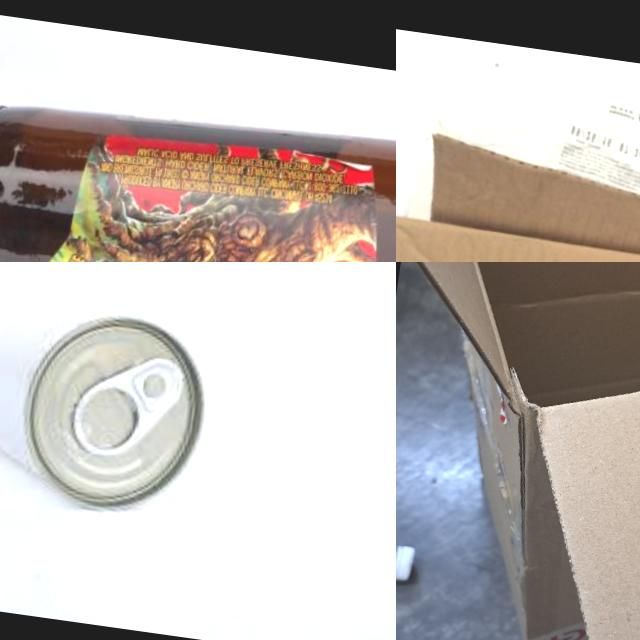aba de lata: (64, 347, 190, 466)
garrafa de vidro: (0, 71, 396, 262)
lata: (0, 289, 222, 524)
papelão: (396, 262, 640, 640), (396, 35, 640, 262)
